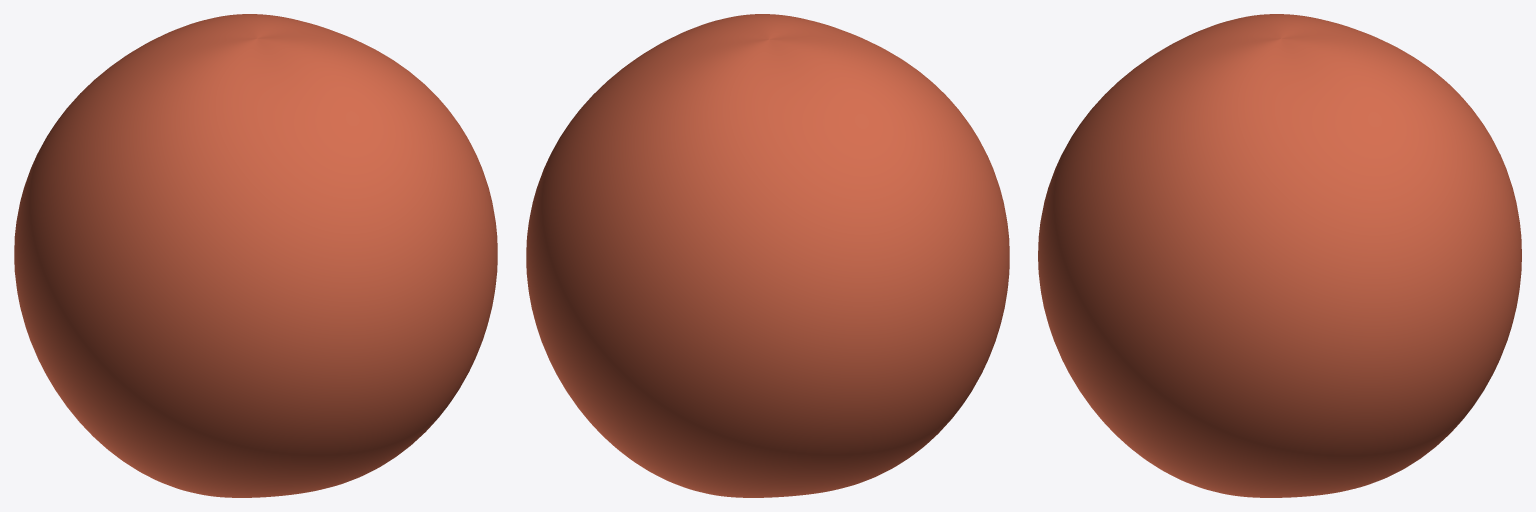
The model's file is moti.glb.
3 views of the same model, side by side, from view 1: azimuth 30°, elevation 25°; view 2: azimuth 150°, elevation 25°; view 3: azimuth 270°, elevation 25° (orthographic).
Visible parts, largest first — view 1: stone; view 2: stone; view 3: stone.
Part boxes in pixels (<box>): stone: <box>14,14,497,497</box>; stone: <box>526,14,1009,497</box>; stone: <box>1038,14,1521,497</box>.
Bounding box in the file's own units: 0.85 × 0.8502 × 0.85.
